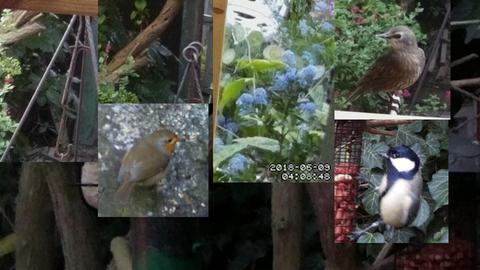great tit: (346, 144, 424, 242)
robin: (113, 128, 184, 206)
starling: (344, 25, 426, 114)
